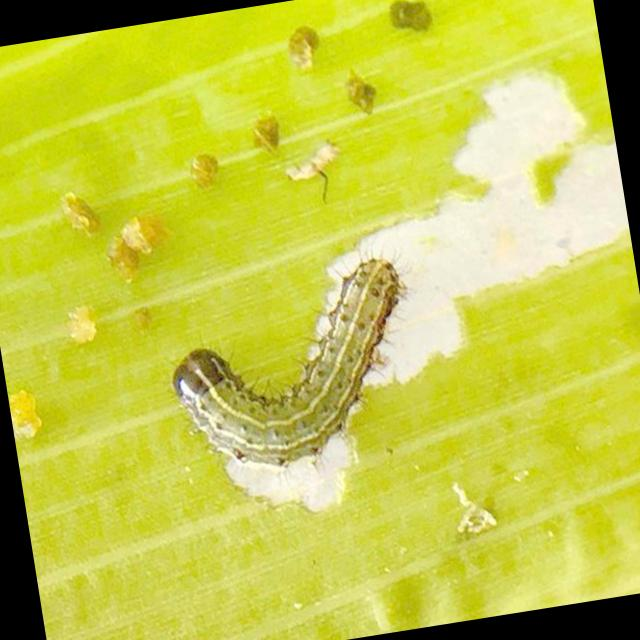pest: (154, 250, 424, 482)
